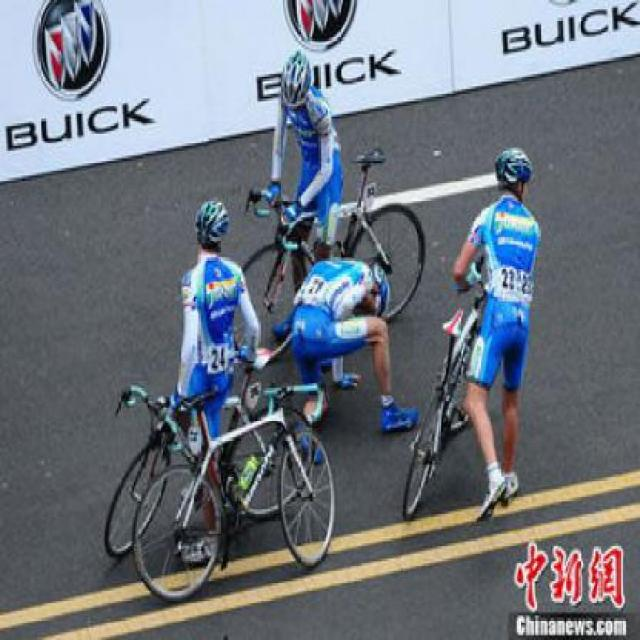fall: (276, 240, 422, 448)
